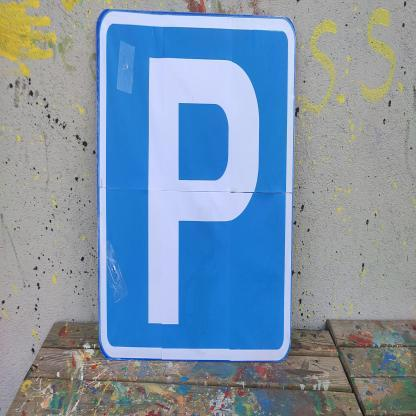parking: (96, 8, 295, 363)
